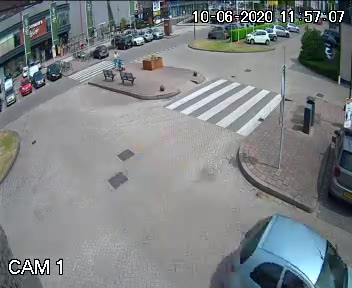car: (209, 210, 352, 288)
